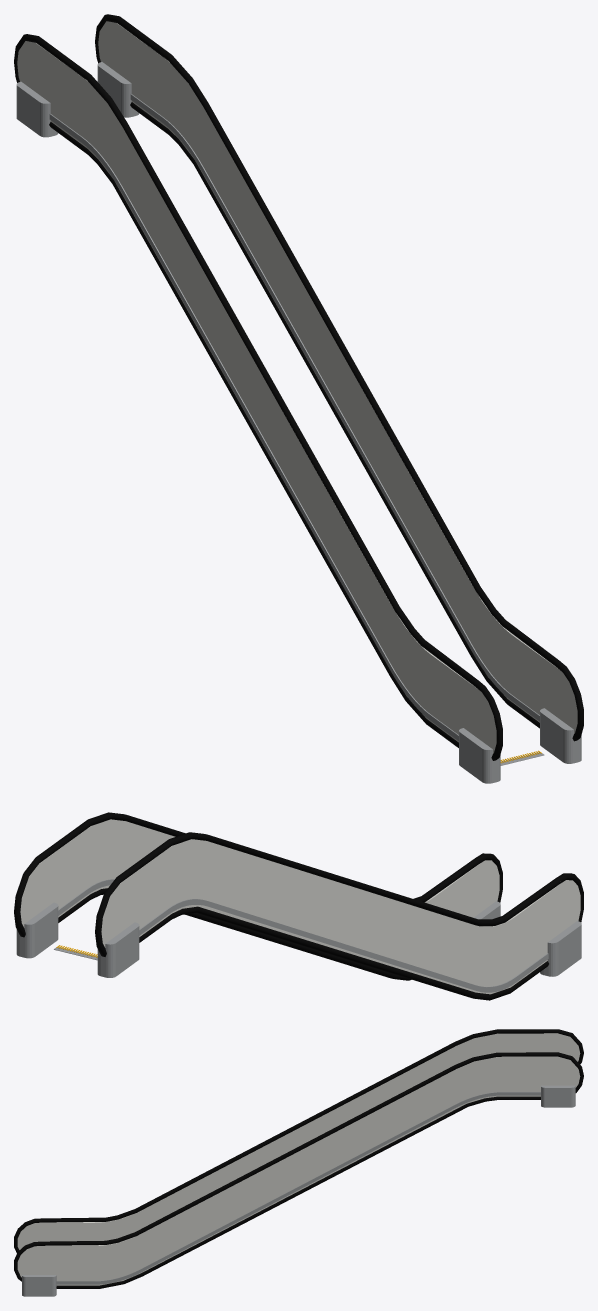
File: gteki_escalator_dress_s600_r3500_panel.glb
3 renders of one model, top to bottom at view 1: azimuth 30°, elevation 25°; view 2: azimuth 150°, elevation 25°; view 3: azimuth 270°, elevation 25°, orthographic. The views are drawn at different scales.
Parts seen in each view (by area): view 1: VIS_body; view 2: VIS_body; view 3: VIS_body.
Boxes of the visible parts, x1,y1,x2,y2 form: VIS_body: (14,14,583,783); VIS_body: (14,812,583,1000); VIS_body: (14,1029,583,1296).
Size of the model in its own units: 1.12 by 4.48 by 9.56.
1 material, 1 textured.
